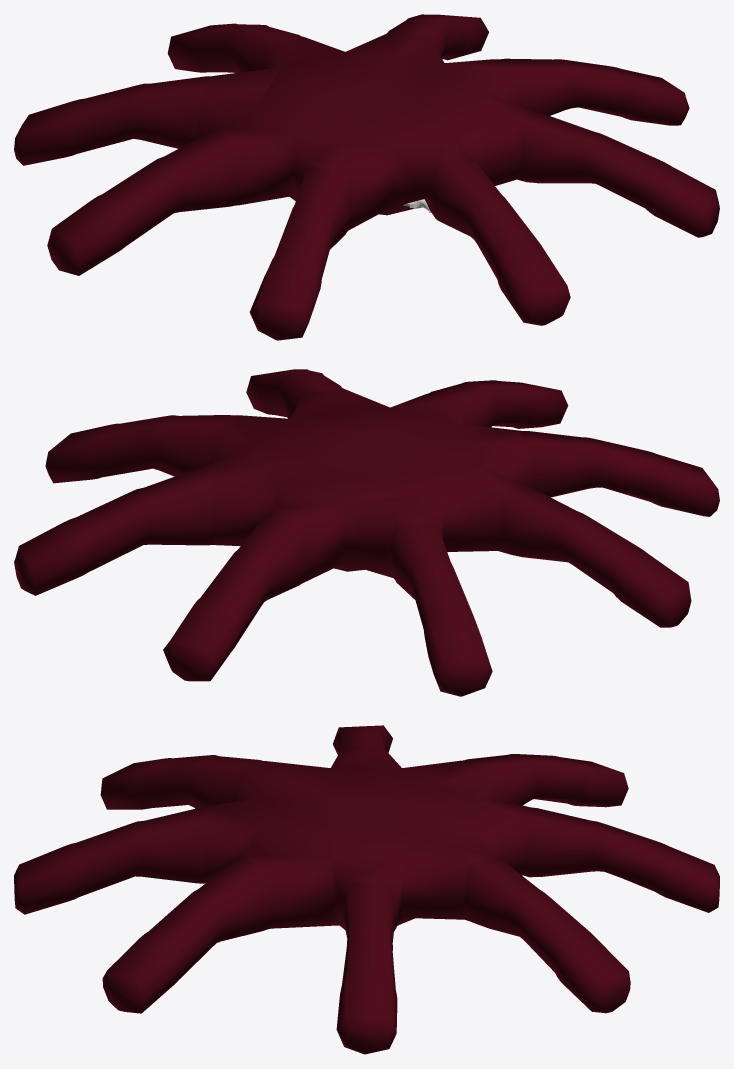
The model's file is hand enemy fbx.fbx.
3 views of the same model, one above another, from view 1: azimuth 30°, elevation 25°; view 2: azimuth 150°, elevation 25°; view 3: azimuth 270°, elevation 25° (orthographic). The views are drawn at different scales.
Visible parts, largest first — view 1: Hand_Mesh.004; view 2: Hand_Mesh.004; view 3: Hand_Mesh.004.
Part boxes in pixels (box(x1,y1,x2,y2)): Hand_Mesh.004: box(14, 14, 719, 340); Hand_Mesh.004: box(14, 369, 719, 696); Hand_Mesh.004: box(14, 725, 719, 1054).
Size of the model in its own units: 806 by 123 by 806.
